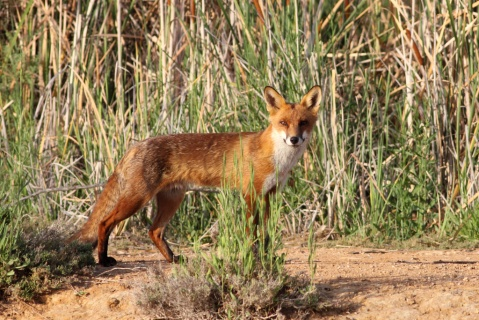Fox: (61, 84, 322, 267)
